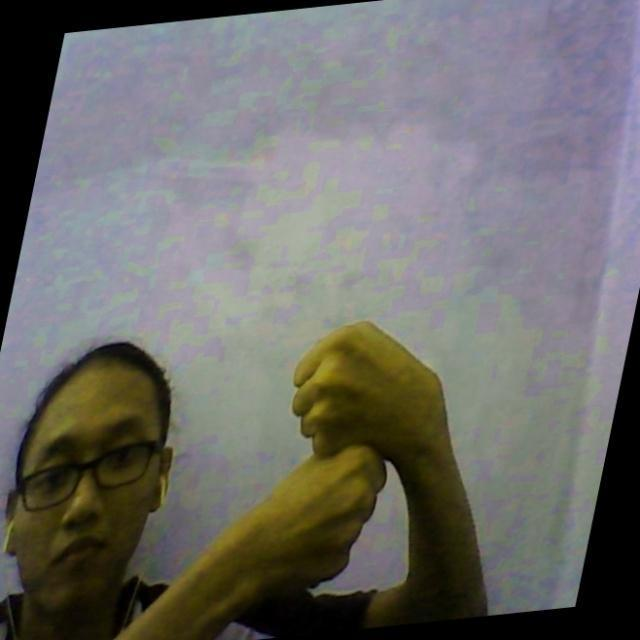G: (286, 314, 440, 594)
